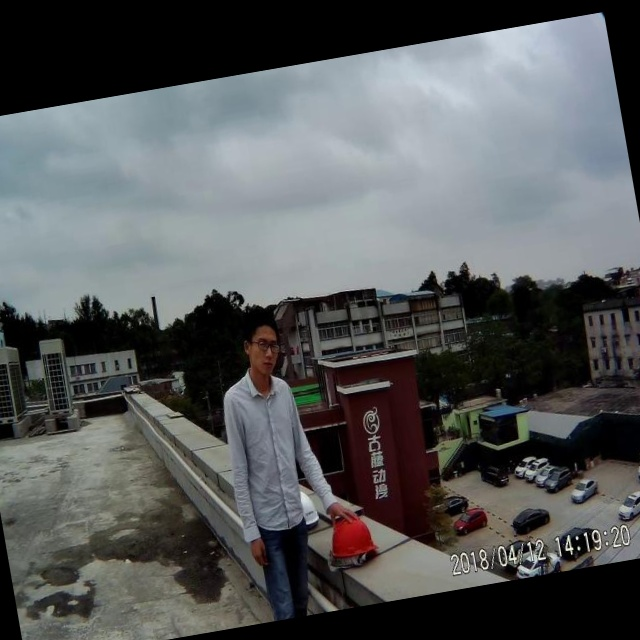Sin_Chaleco: (218, 369, 318, 523)
